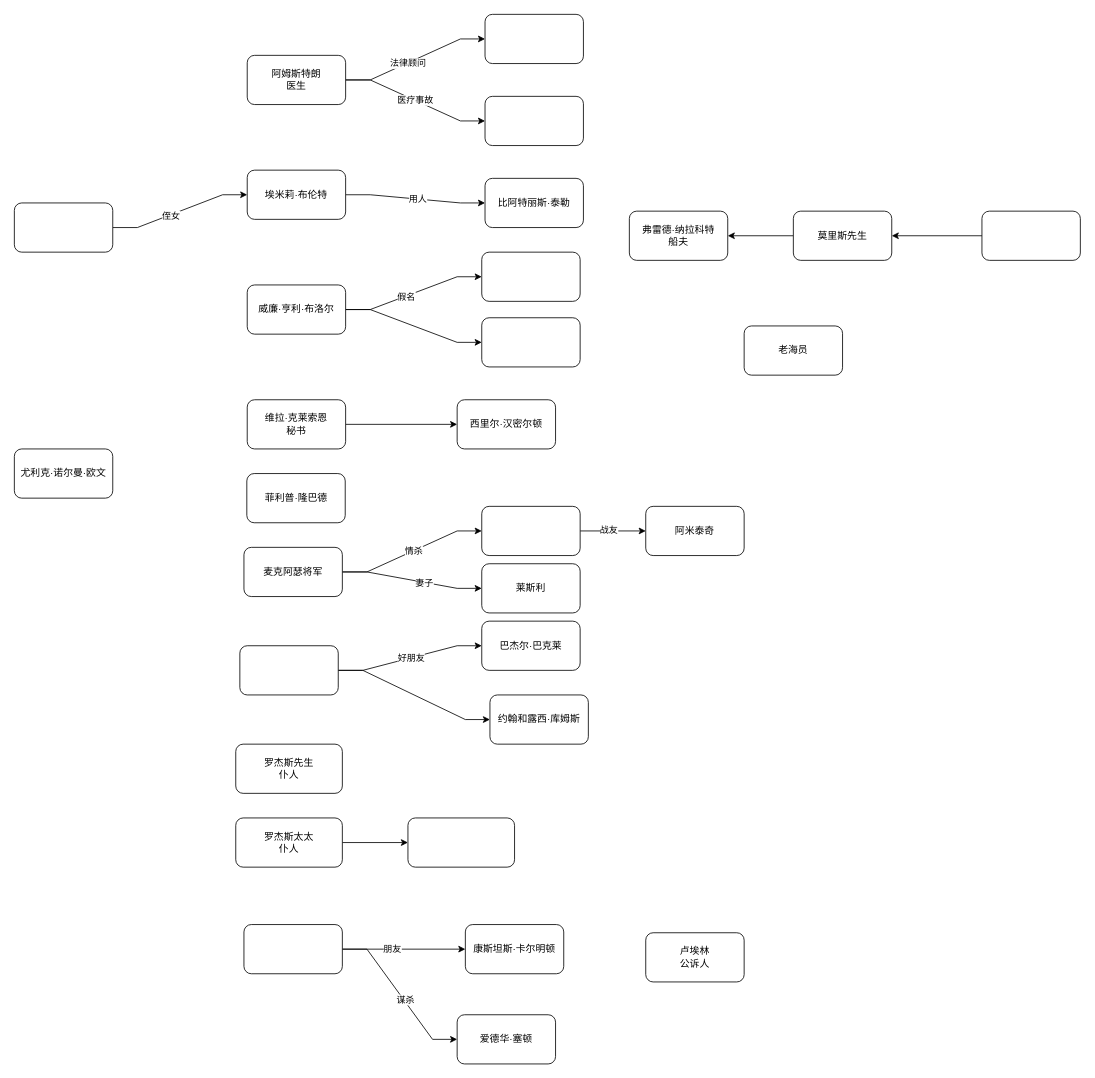
This 1095x1078 diagram has some shape labels left out. The shapes that lost their labels are listed below. From the top down, each one's centre as x and y in pixels, then its label:
At point (533, 39): "马修斯".
At point (533, 121): "克利斯".
At point (63, 227): "老汤姆·布伦特".
At point (1030, 235): "欧文先生".
At point (530, 276): "戴维斯".
At point (530, 342): "兰道".
At point (530, 531): "阿瑟·里奇蒙".
At point (288, 670): "安东尼·马斯顿".
At point (461, 842): "布雷迪小姐".
At point (292, 949): "瓦格雷夫老法官".
